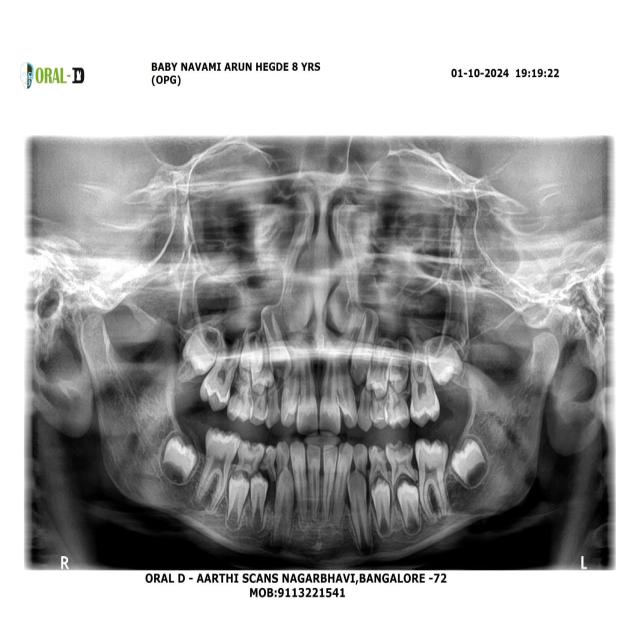Premolars: (368, 443, 392, 495)
